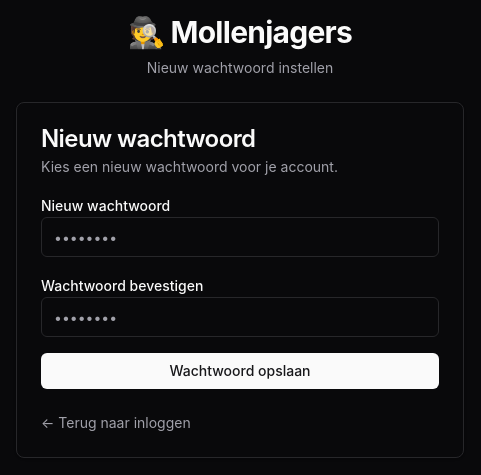
Scenario: ResetPasswordPage › shows loading state while resetting
Type "newpass" into the password field labelled "Nieuw wachtwoord" at [240, 237], box [41,217,439,257]
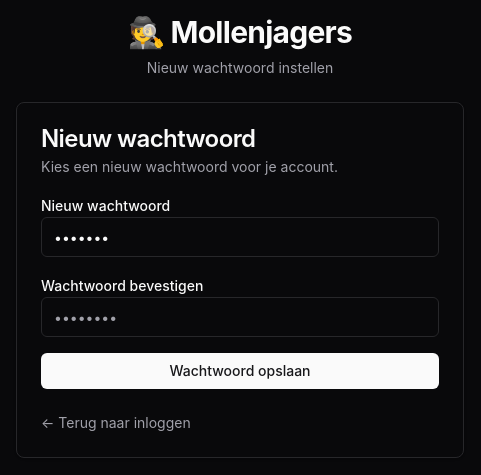
Type "newpass" into the password field labelled "Wachtwoord bevestigen" at [240, 317], box [41,297,439,337]
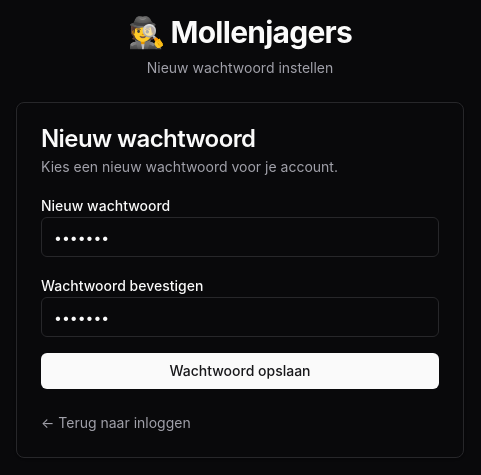
Click the button "Wachtwoord opslaan" at [240, 371], box [41,353,439,389]
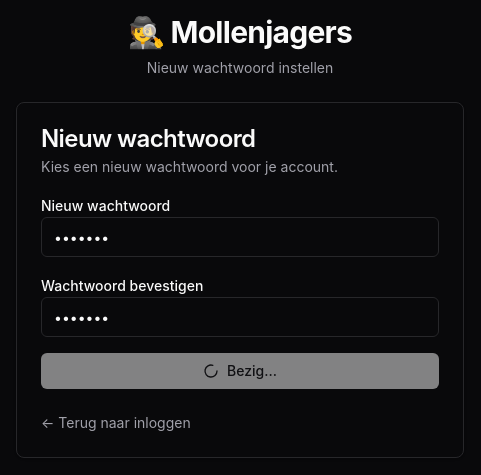
Expected: the button "Bezig..." is shown, [41,353,439,389]
